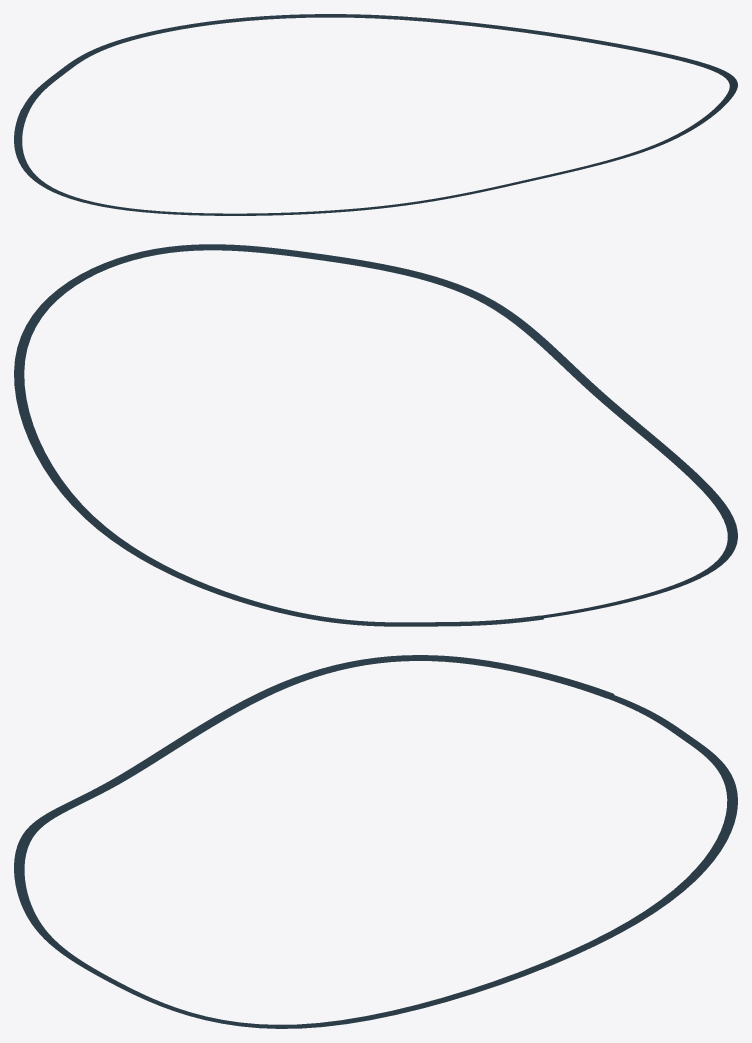
The model's file is track_only.fbx.
3 renders of one model, top to bottom at view 1: azimuth 30°, elevation 25°; view 2: azimuth 150°, elevation 25°; view 3: azimuth 270°, elevation 25°, orthographic. The views are drawn at different scales.
Parts seen in each view (by area): view 1: track; view 2: track; view 3: track.
Part boxes in pixels (x1,y1,x2,y2): track: (14, 14, 737, 215); track: (14, 244, 737, 626); track: (14, 655, 737, 1028).
Bounding box in the file's own units: 840 × 44.15 × 662.
